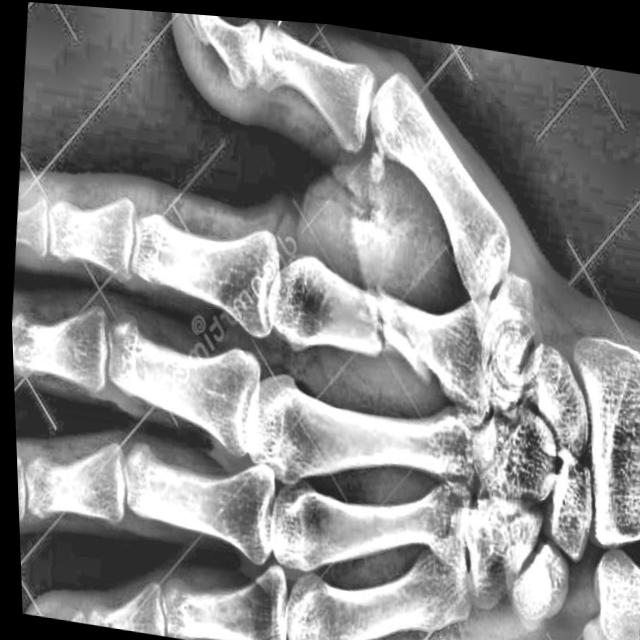fracture: (362, 281, 392, 358)
